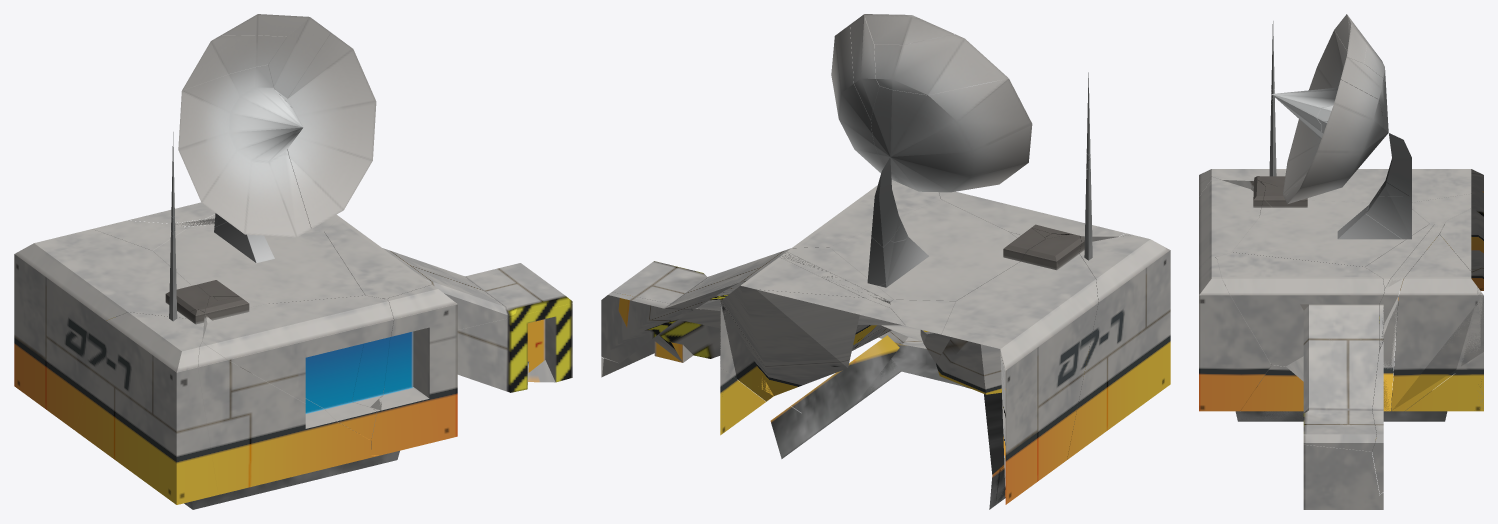
The model's file is Broke_Sat_Base.fbx.
3 views of the same model, side by side, from view 1: azimuth 30°, elevation 25°; view 2: azimuth 150°, elevation 25°; view 3: azimuth 270°, elevation 25° (orthographic). The views are drawn at different scales.
Visible parts, largest first — view 1: Satelite_uplink6, Satelite_uplink12, Sat_Dish1, Satelite_uplink16, Satelite_uplink17, Sat_Dish5, Satelite_uplink18, Satelite_uplink20, Satelite_uplink19, Satelite_uplink5, Sat_Dish2, Sat_Dish4 (+7 smaller); view 2: Satelite_uplink6, Satelite_uplink3, Satelite_uplink12, Sat_Dish1, Satelite_uplink20, Satelite_uplink19, Sat_Dish2, Satelite_uplink5, Satelite_uplink8, Sat_Dish5, Satelite_uplink16, Satelite_uplink9 (+13 smaller); view 3: Satelite_uplink19, Satelite_uplink3, Satelite_uplink20, Satelite_uplink18, Satelite_uplink5, Sat_Dish5, Satelite_uplink6, Sat_Dish1, Satelite_uplink16, Satelite_uplink10, Satelite_uplink9, Satelite_uplink14 (+11 smaller).
Boxes of the visible parts, box(x1,y1,x2,y2) form: Satelite_uplink6: box(14, 229, 209, 430); Satelite_uplink12: box(75, 309, 232, 509); Sat_Dish1: box(178, 64, 311, 237); Satelite_uplink16: box(202, 295, 393, 440); Satelite_uplink17: box(198, 341, 386, 507); Sat_Dish5: box(287, 32, 376, 228); Satelite_uplink18: box(371, 284, 457, 455); Satelite_uplink20: box(153, 229, 364, 303); Satelite_uplink19: box(324, 217, 572, 329); Satelite_uplink5: box(457, 303, 572, 392); Sat_Dish2: box(182, 35, 286, 90); Sat_Dish4: box(268, 17, 330, 108); Satelite_uplink6: box(941, 234, 1098, 509); Satelite_uplink3: box(601, 257, 863, 427); Satelite_uplink12: box(1067, 235, 1170, 459); Sat_Dish1: box(871, 78, 1032, 192); Satelite_uplink20: box(829, 199, 1045, 333); Satelite_uplink19: box(612, 181, 940, 305); Sat_Dish2: box(874, 34, 1008, 95); Satelite_uplink5: box(602, 308, 899, 376); Satelite_uplink8: box(936, 234, 1066, 505); Sat_Dish5: box(831, 25, 901, 183); Satelite_uplink16: box(939, 191, 1124, 241); Satelite_uplink9: box(732, 252, 923, 440); Satelite_uplink19: box(1217, 252, 1384, 451); Satelite_uplink3: box(1372, 234, 1483, 494); Satelite_uplink20: box(1232, 186, 1428, 266); Satelite_uplink18: box(1199, 257, 1271, 411); Satelite_uplink5: box(1240, 365, 1382, 509); Sat_Dish5: box(1284, 80, 1383, 204); Satelite_uplink6: box(1255, 169, 1483, 327); Sat_Dish1: box(1271, 30, 1388, 197); Satelite_uplink16: box(1199, 179, 1265, 267); Satelite_uplink10: box(1380, 352, 1483, 509); Satelite_uplink9: box(1379, 205, 1454, 421); Satelite_uplink14: box(1440, 209, 1483, 410).
Bounding box in the file's own units: 40.5 × 35.44 × 25.
